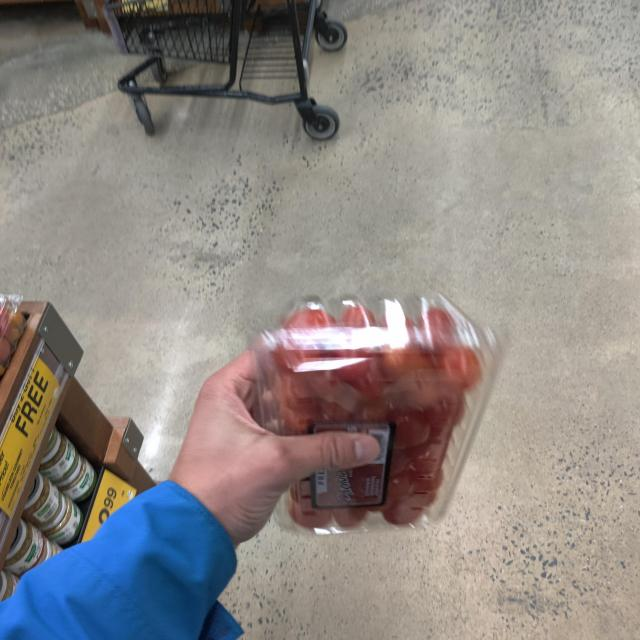Tomatoes: (246, 286, 514, 553)
